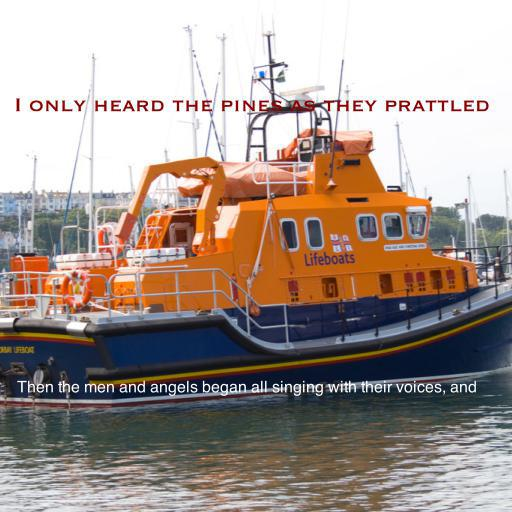Copperplate: (14, 98, 490, 112)
SignPainter: (17, 380, 477, 396)
